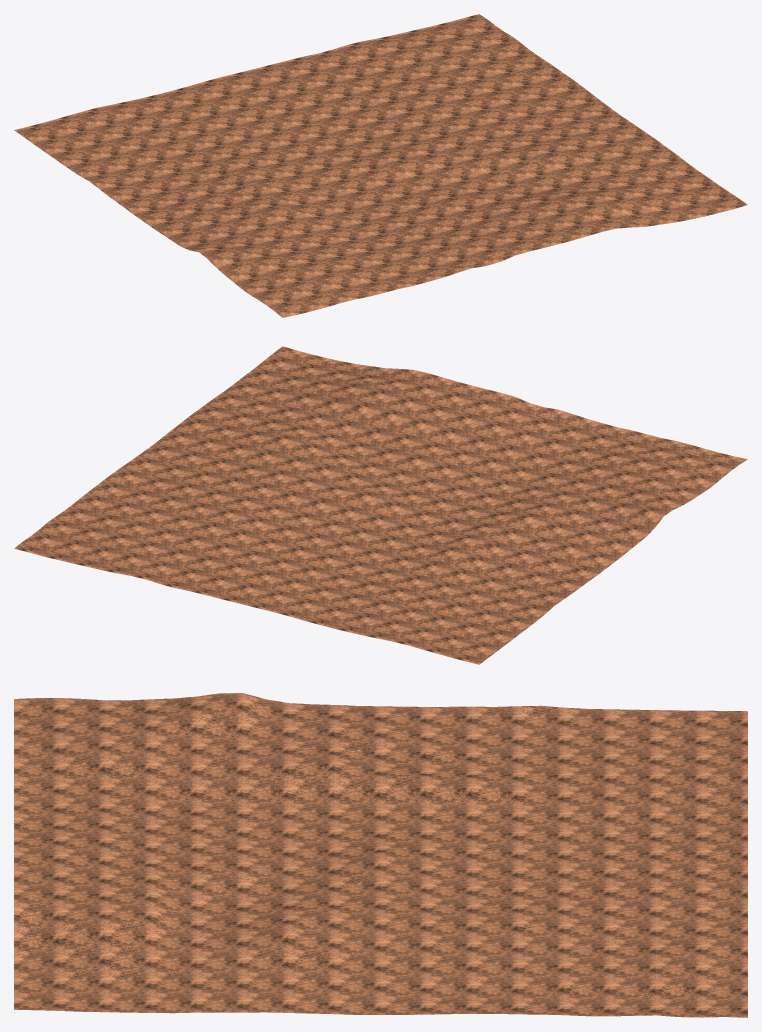
File: terrain_01_08.dae
3 renders of one model, top to bottom at view 1: azimuth 30°, elevation 25°; view 2: azimuth 150°, elevation 25°; view 3: azimuth 270°, elevation 25°, orthographic. The views are drawn at different scales.
Parts seen in each view (by area): view 1: terrain_01_08-node; view 2: terrain_01_08-node; view 3: terrain_01_08-node.
Boxes of the visible parts, box(x1,y1,x2,y2) form: terrain_01_08-node: box(14, 14, 747, 317); terrain_01_08-node: box(14, 346, 747, 664); terrain_01_08-node: box(14, 693, 747, 1017).
Size of the model in its own units: 128 by 128 by 4.46.
1 material, 1 textured.
